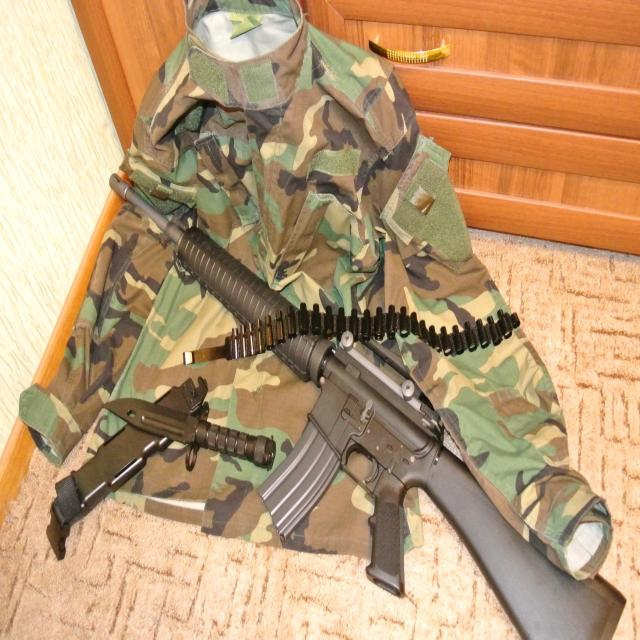firearm: (108, 172, 628, 640)
knife: (187, 305, 539, 355), (103, 386, 278, 476)
